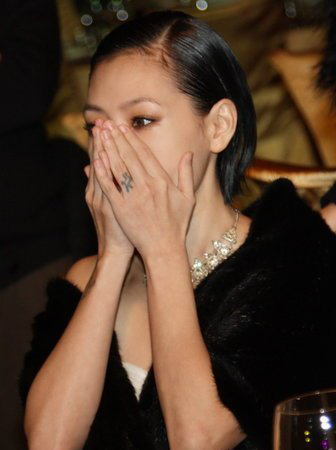face: (83, 49, 200, 241)
